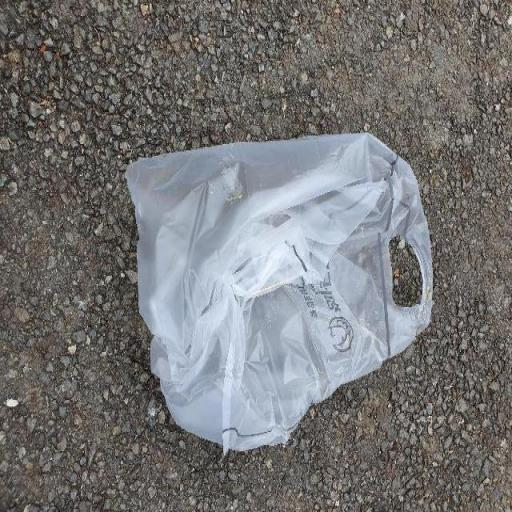plastic-bag: (122, 130, 434, 452)
